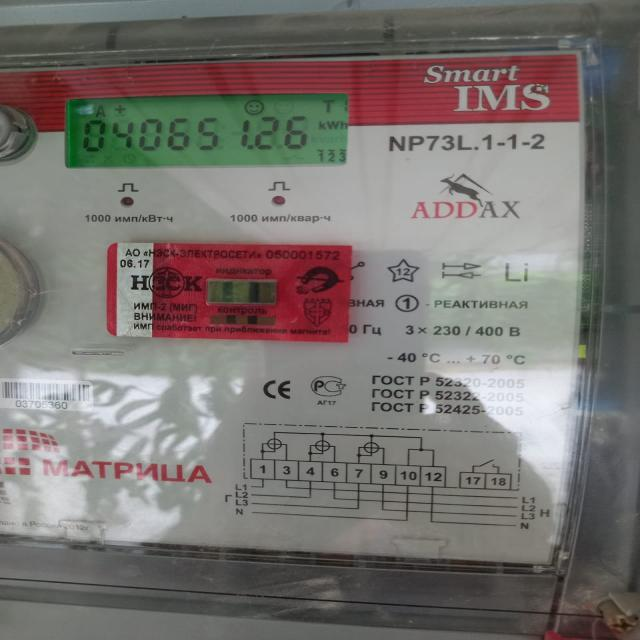Display: (63, 96, 348, 172)
meter_matrica: (0, 40, 600, 640)
meter_number: (0, 375, 107, 417)
seal_imp: (104, 239, 356, 347)
